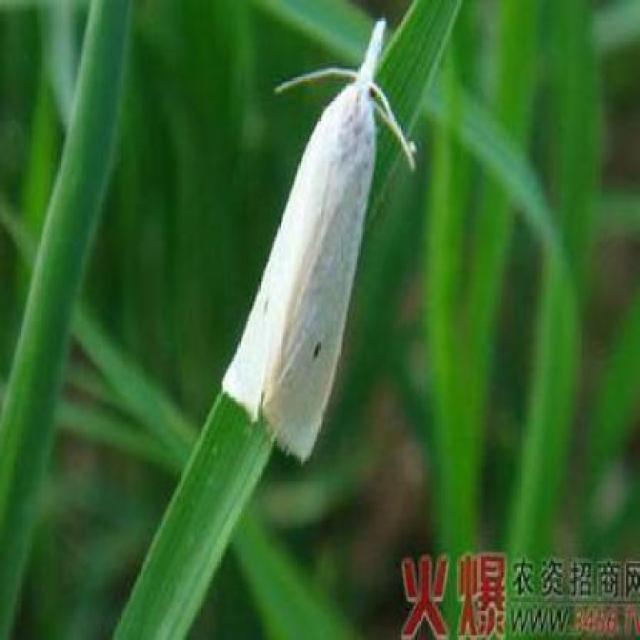stem-borer: (218, 13, 420, 470)
